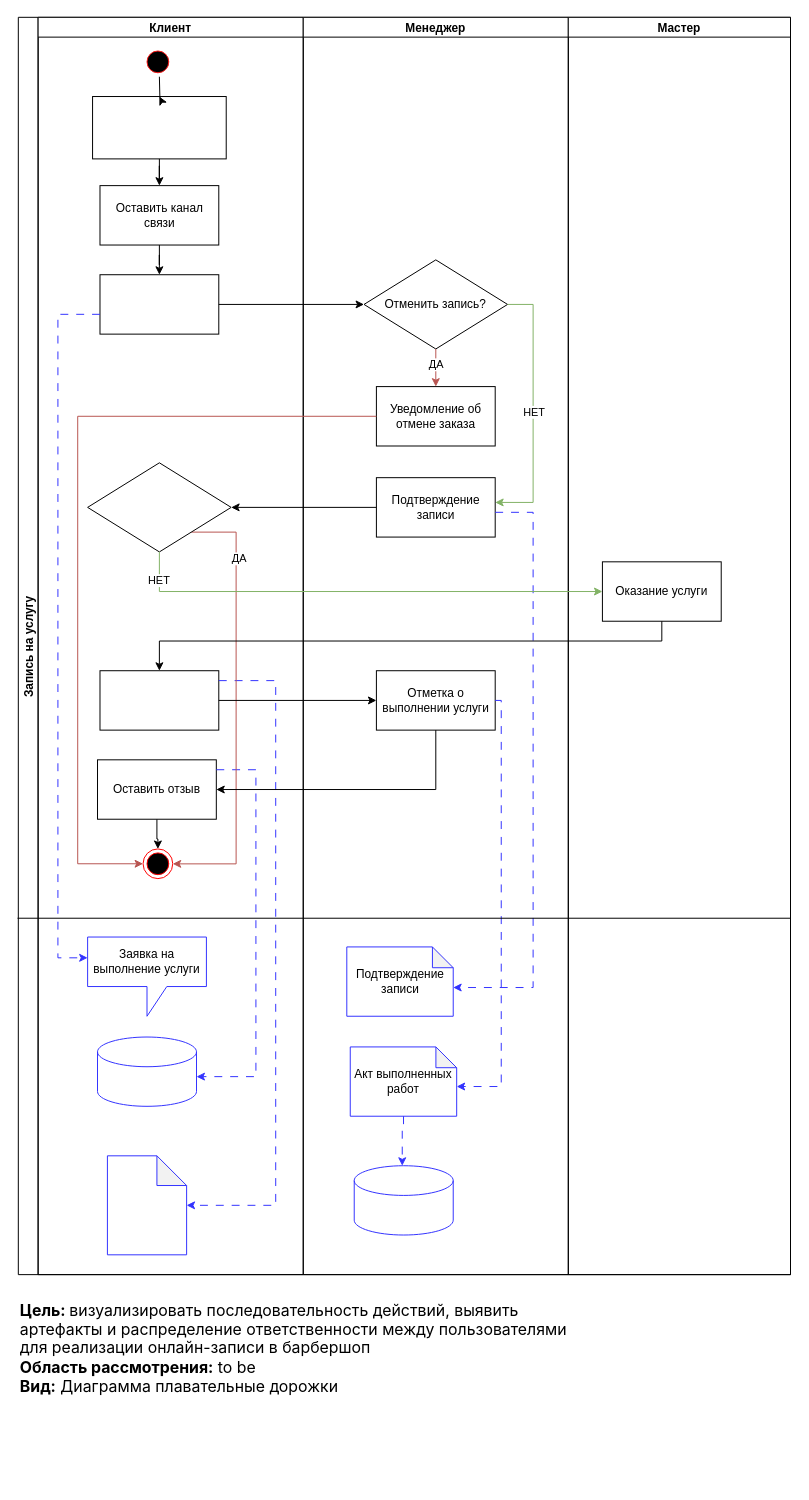
The diagram is 809 pixels wide and 1500 high, and some of its shapes have lost their labels. The centre of each missing label's shape, as x and y in pixels:
Выбор услуги, мастера и временного интервала: the point at 159,127
Записи: the point at 403,1200
Клиент отменил запись?: the point at 159,507
Оплатить услугу: the point at 159,700
Отзывы: the point at 147,1071
Подтвердить запись: the point at 159,304
Чек: the point at 146,1205
